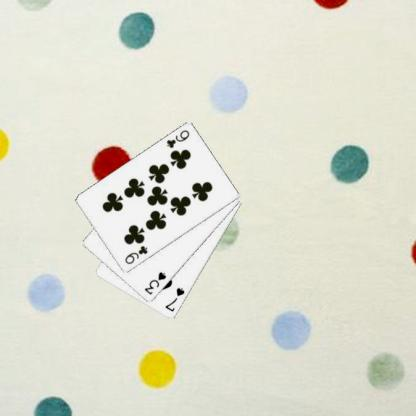3S: (141, 269, 168, 296)
7S: (162, 285, 186, 314)
9C: (122, 243, 150, 266), (164, 127, 190, 150)
